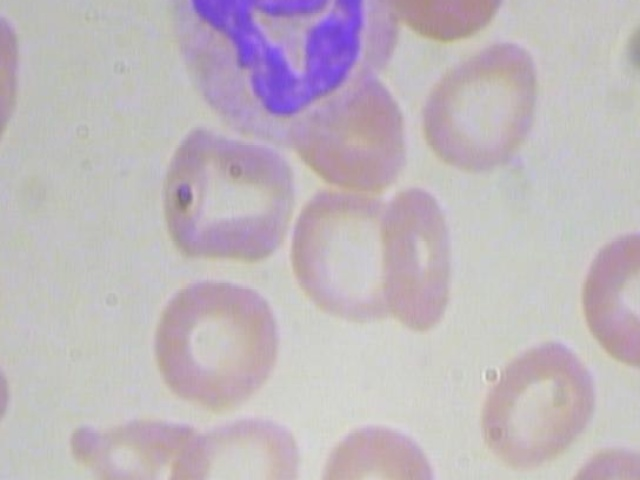RBC: (157, 119, 305, 270), (464, 322, 602, 469), (147, 270, 284, 417), (408, 30, 545, 177), (291, 183, 429, 327), (370, 180, 458, 334), (67, 402, 212, 480), (159, 407, 311, 480), (575, 223, 640, 370), (314, 421, 442, 480), (371, 0, 510, 46), (557, 438, 640, 480)
WBC: (144, 0, 402, 157)
